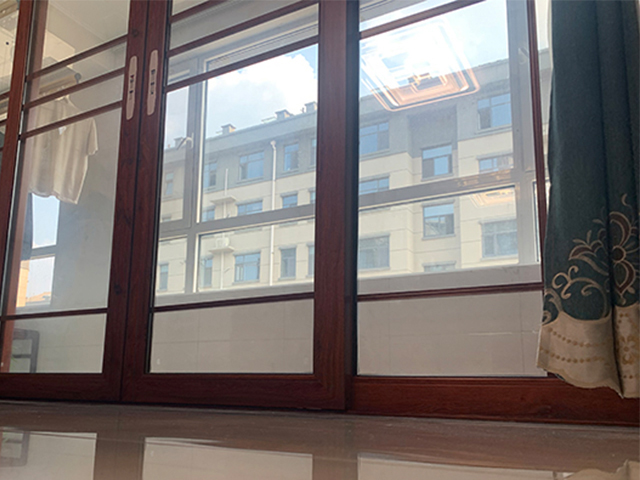curtain: (536, 1, 640, 398)
